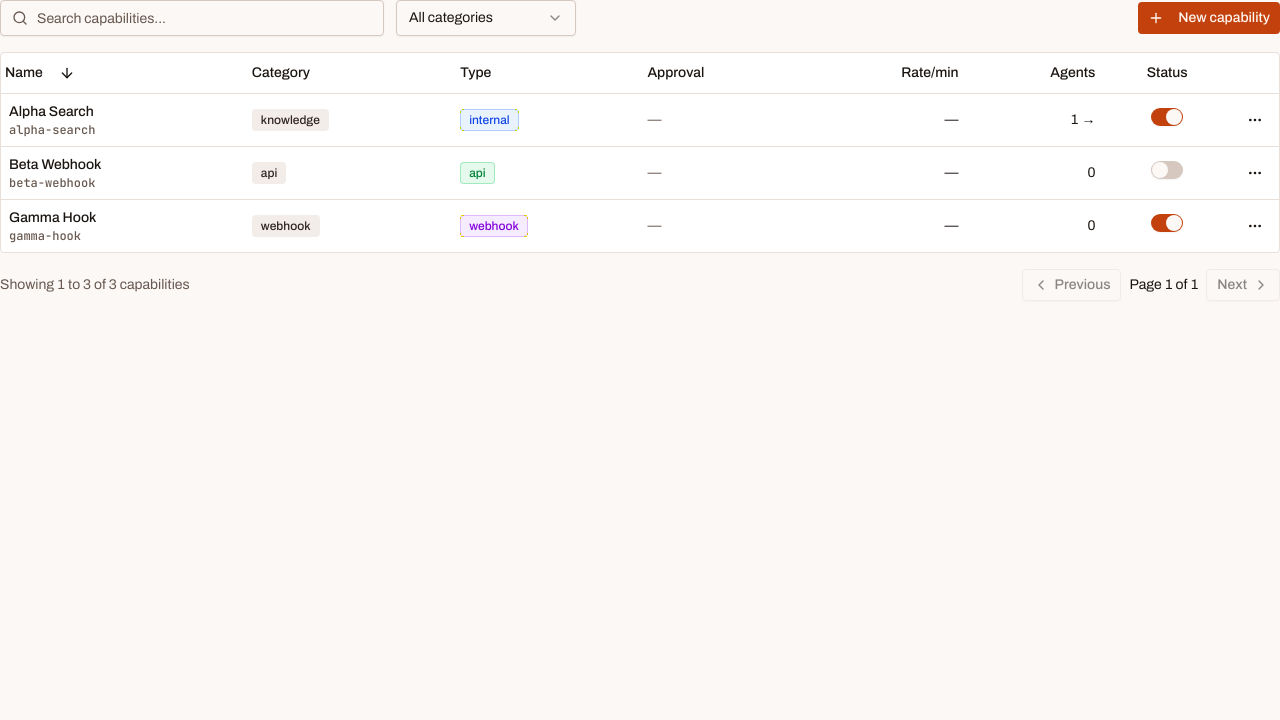
Test: CapabilitiesTable › agent-list popover › header uses singular "agent" when count is 1
This screenshot has width=1280, height=720.
What coordinates should you click on to do the following:
click the button "1 →"
I would click on:
 (1083, 120)
Its box is [1070, 110, 1095, 130].
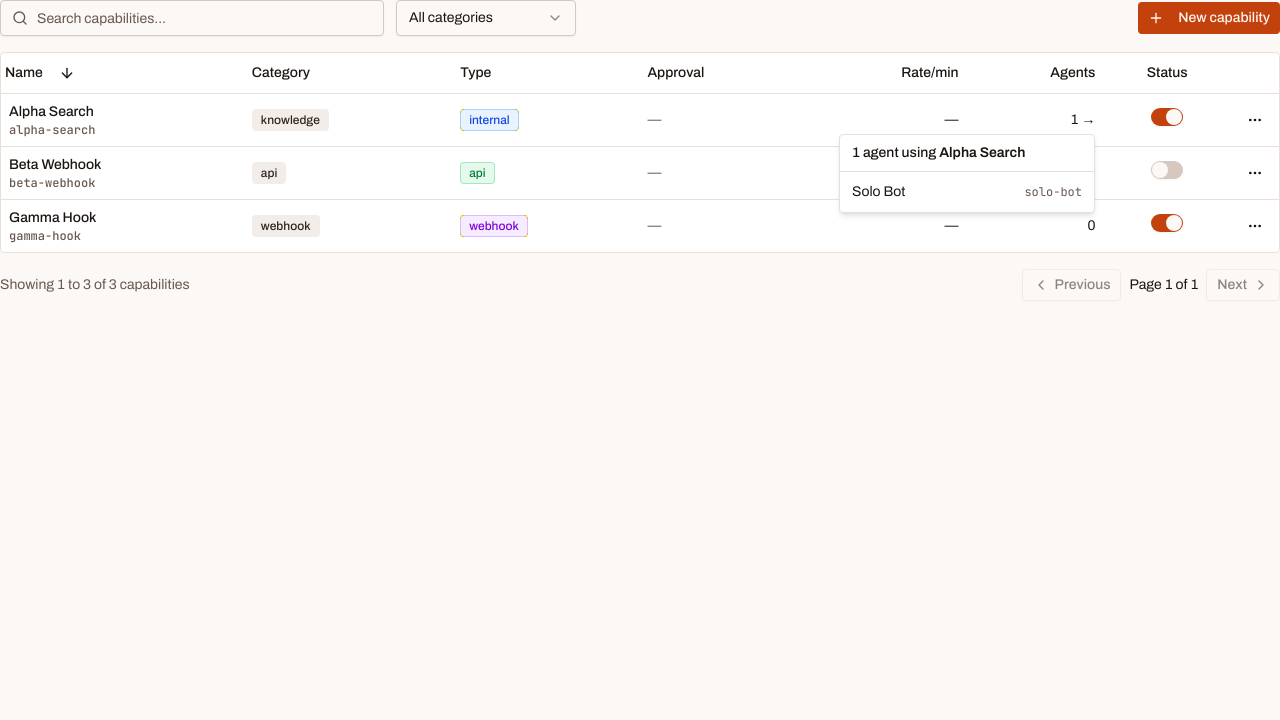
Result: the text "1 agent using Alpha Search" is shown at [852, 145, 1025, 160]
